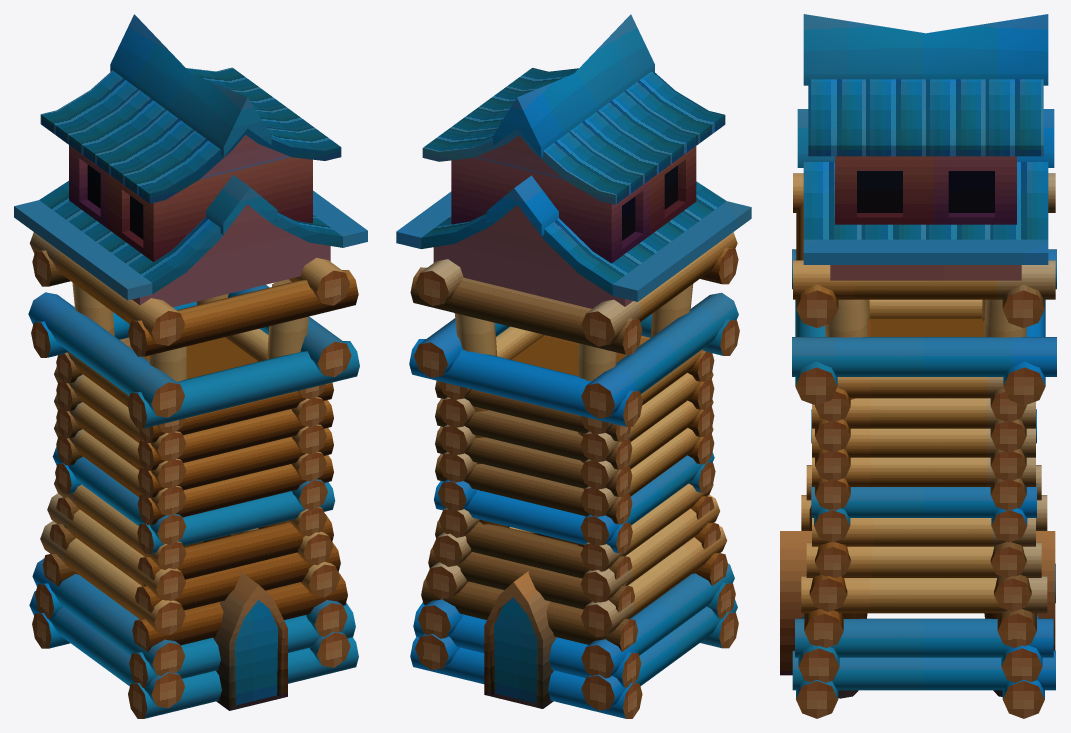
Rendered from simple_low_poly_tower_lvl3.glb.
3 renders of one model, left to right at view 1: azimuth 30°, elevation 25°; view 2: azimuth 150°, elevation 25°; view 3: azimuth 270°, elevation 25°, orthographic. The views are drawn at different scales.
Parts seen in each view (by area): view 1: tower_lvl3_Material #26_0; view 2: tower_lvl3_Material #26_0; view 3: tower_lvl3_Material #26_0.
Part boxes in pixels (left/top/right/bottom): tower_lvl3_Material #26_0: left=14, top=14, right=367, bottom=718; tower_lvl3_Material #26_0: left=396, top=14, right=751, bottom=718; tower_lvl3_Material #26_0: left=780, top=14, right=1056, bottom=718.
Bounding box in the file's own units: 2.67 × 6.39 × 2.47.
Materials: 1 (1 with a texture image).
